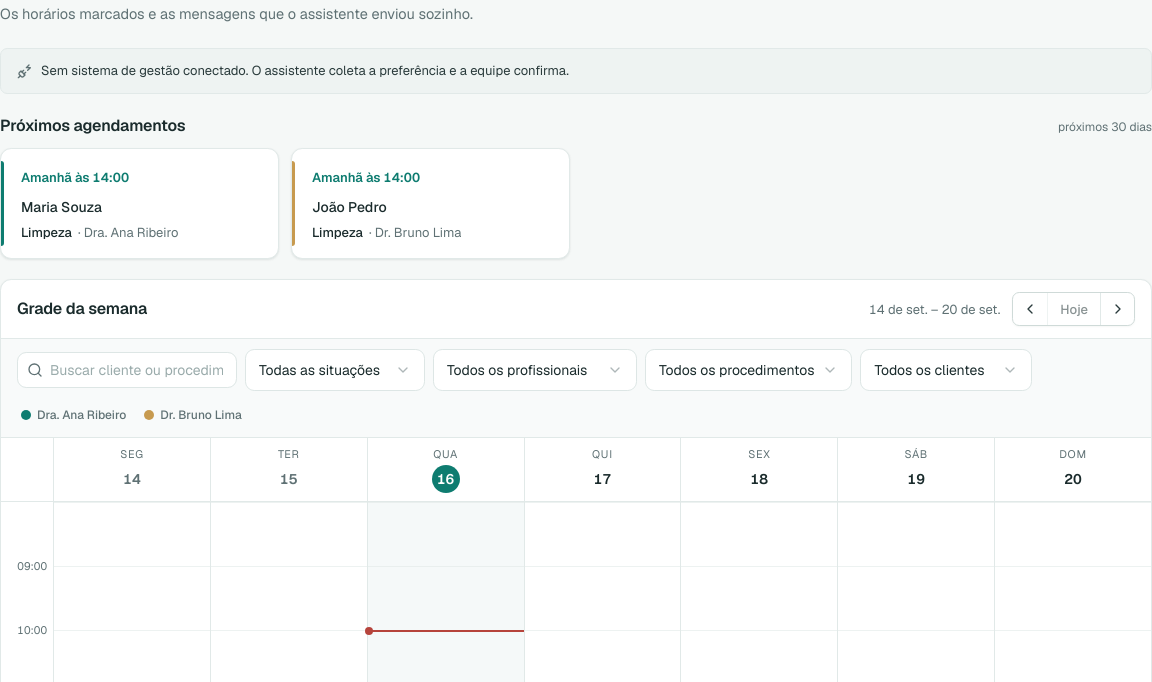
it: AgendaPage — profissionais › a legenda é filtro rápido: clicar num nome isola o profissional
Click the button "Dr. Bruno Lima": coordinates (193, 415) [136, 401, 250, 429]
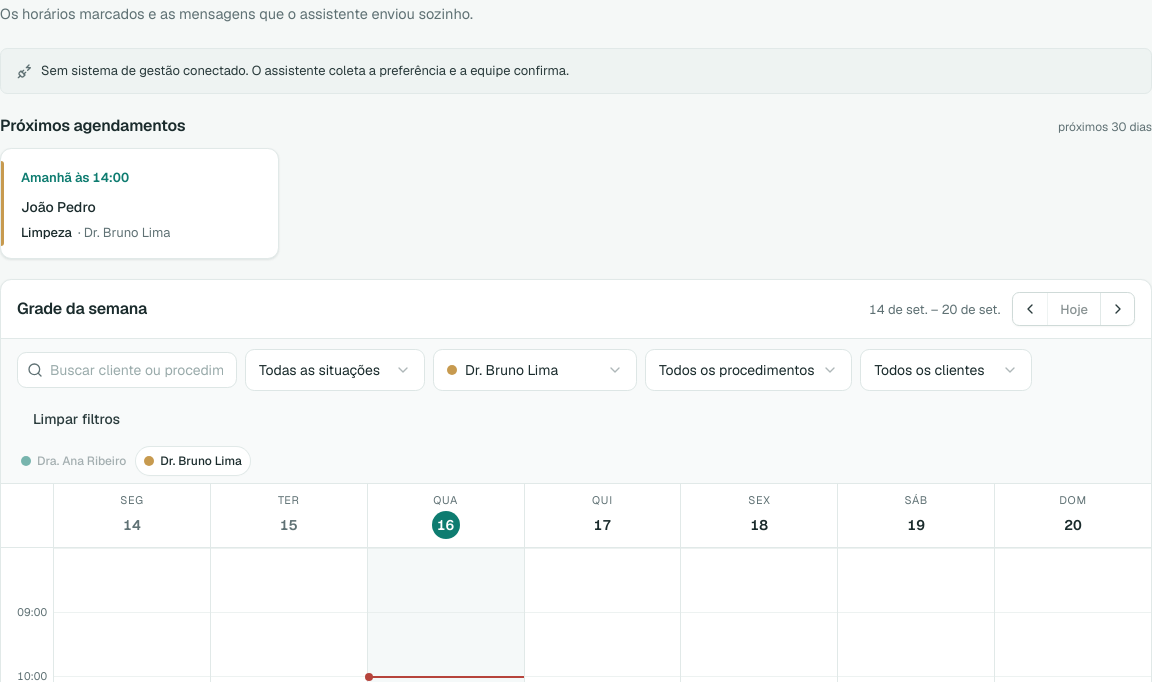
Expected: the button "Dr. Bruno Lima" is pressed
Click the button "Dr. Bruno Lima": coordinates (193, 461) [136, 447, 250, 475]
(page scrolled)
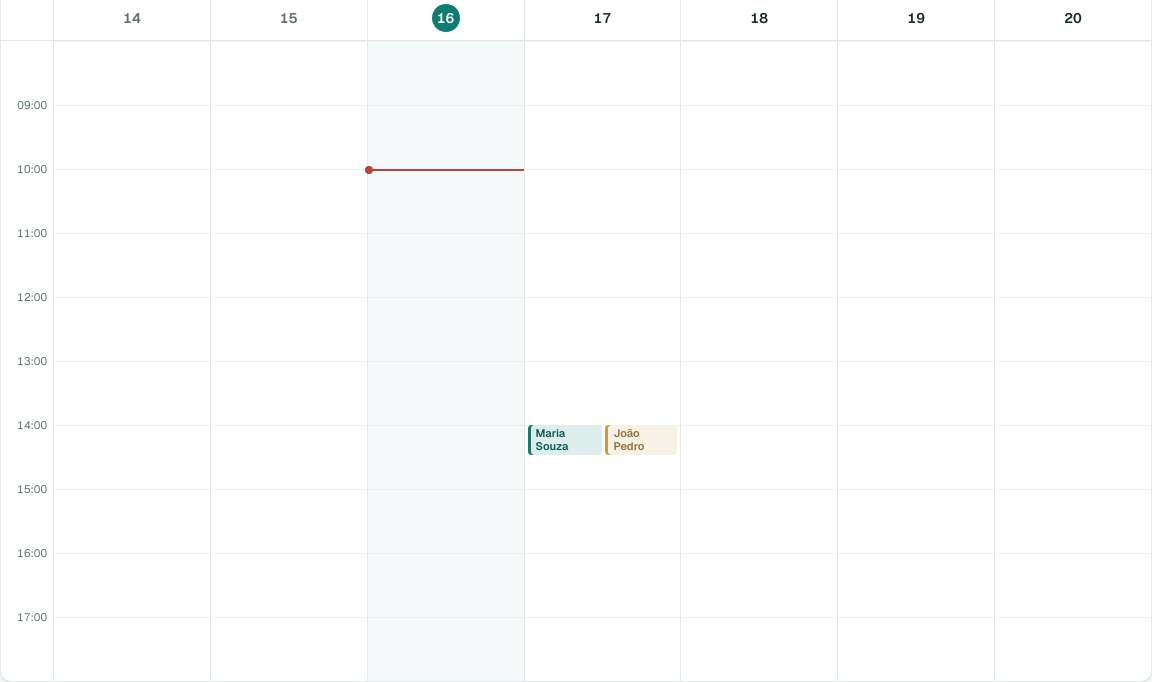
Expected: the button with aria-label "14:00 – 14:30 · Maria Souza" is shown, [528, 425, 602, 455]
